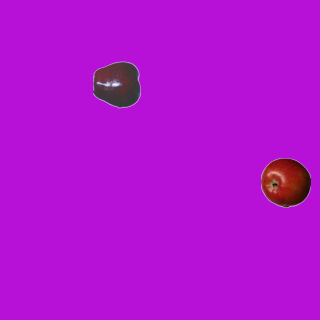Apple Braeburn: (260, 157, 310, 207)
Apple Red Delicious: (92, 59, 142, 109)
